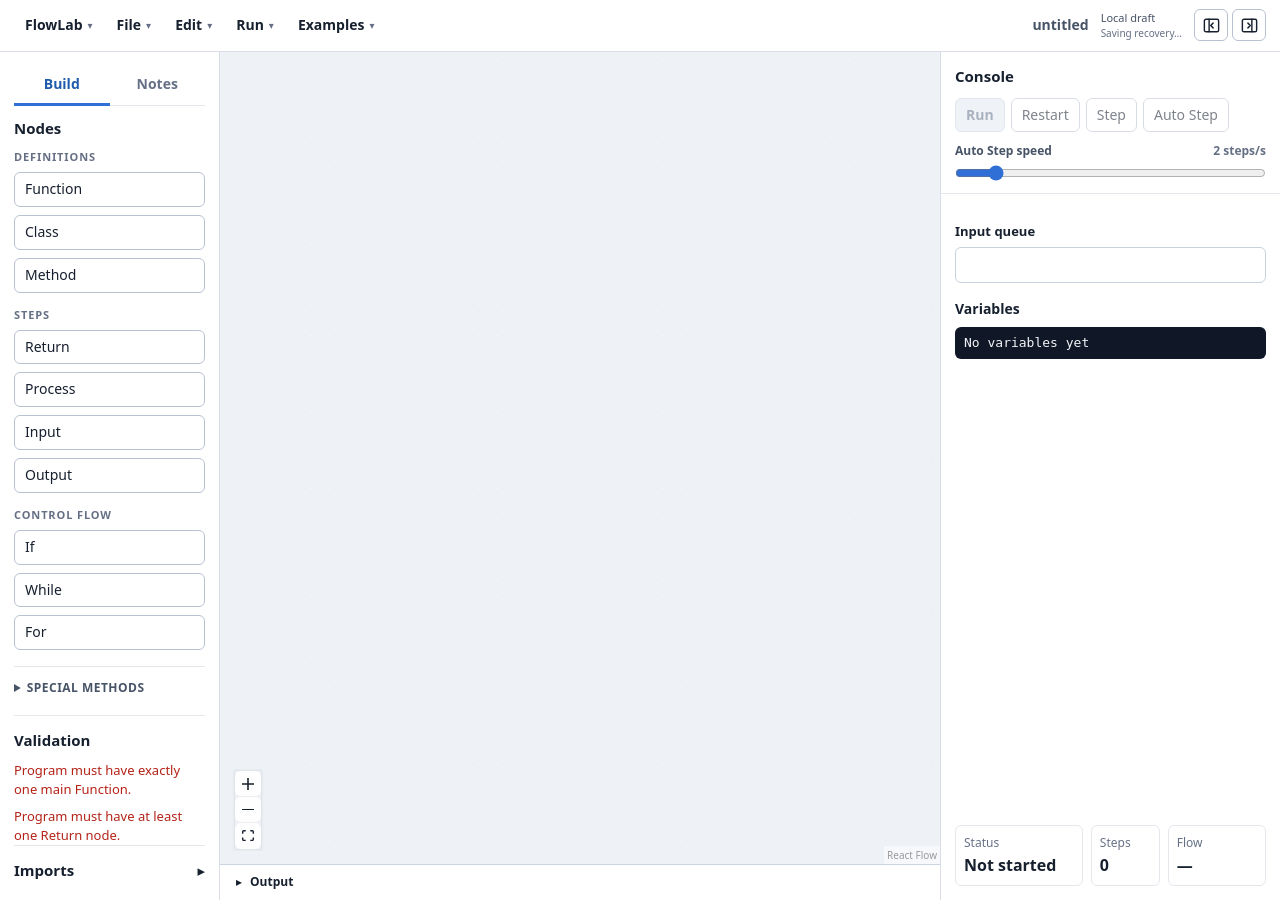
it: App › runs, resets, and steps with Shift+Enter, Ctrl+Shift+R, and Shift+Space
Click the button "Examples ▾". click: (336,25)
box: [287,8,385,43]
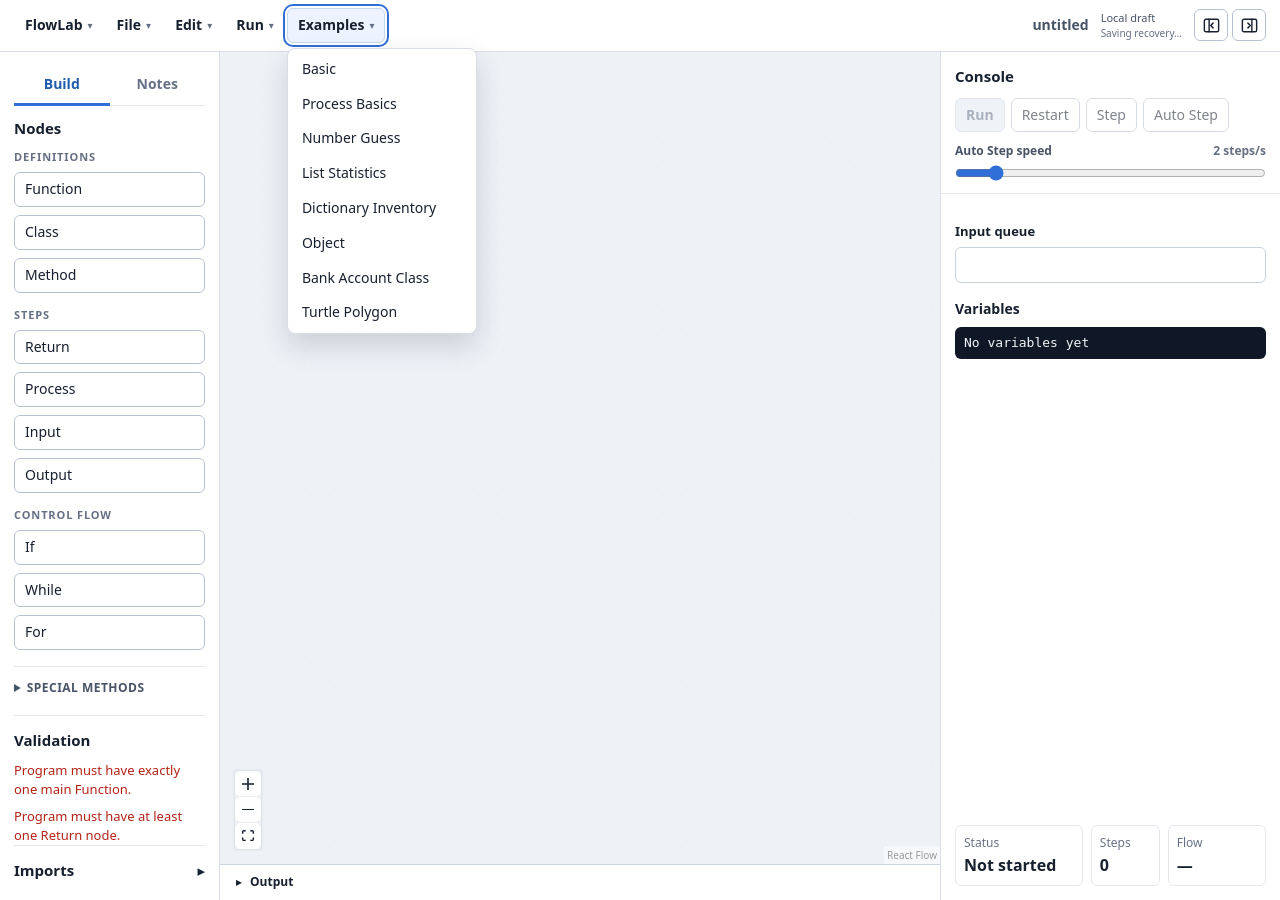
Click the menu item "Basic". click: (382,69)
box: [292,53,472,86]
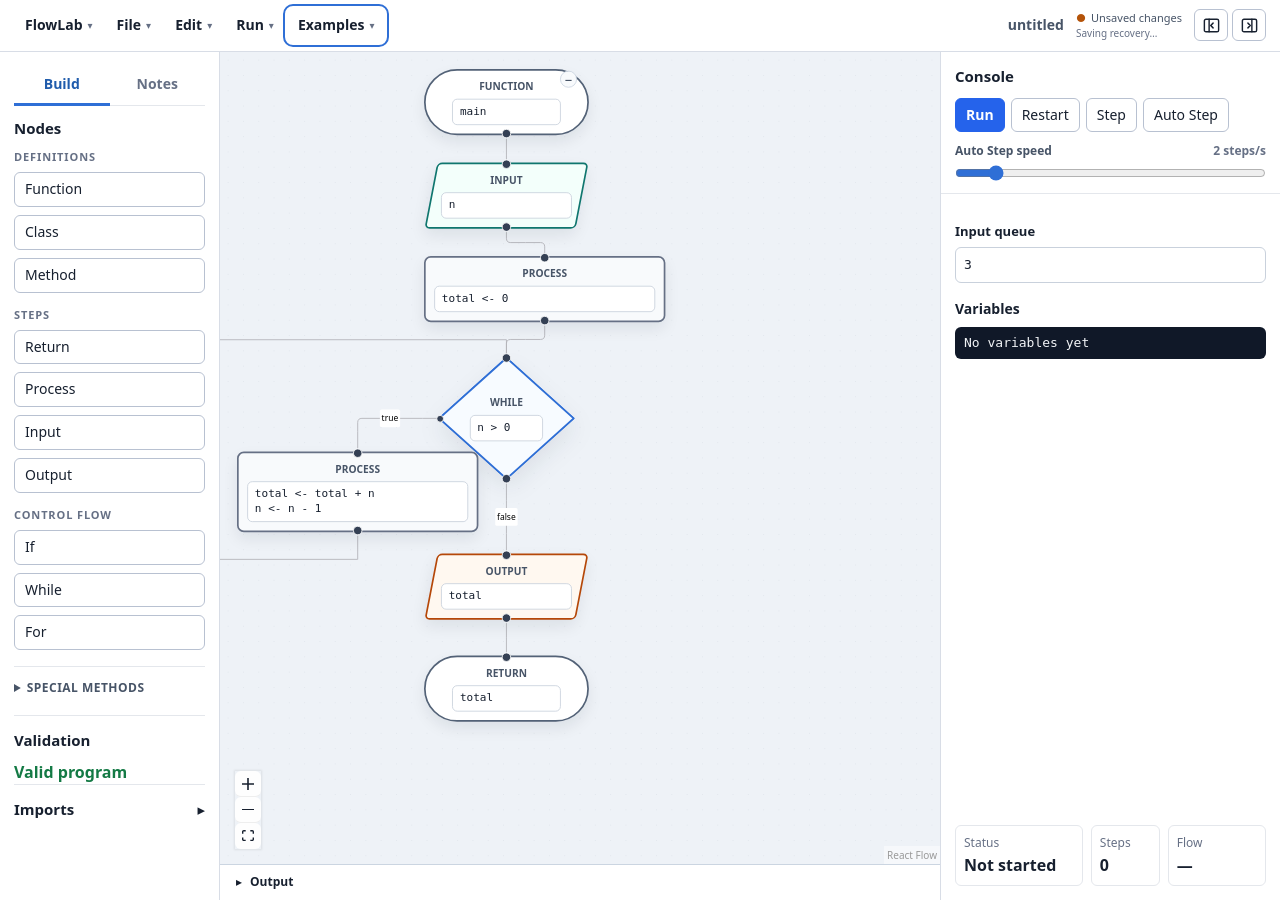
Press Enter
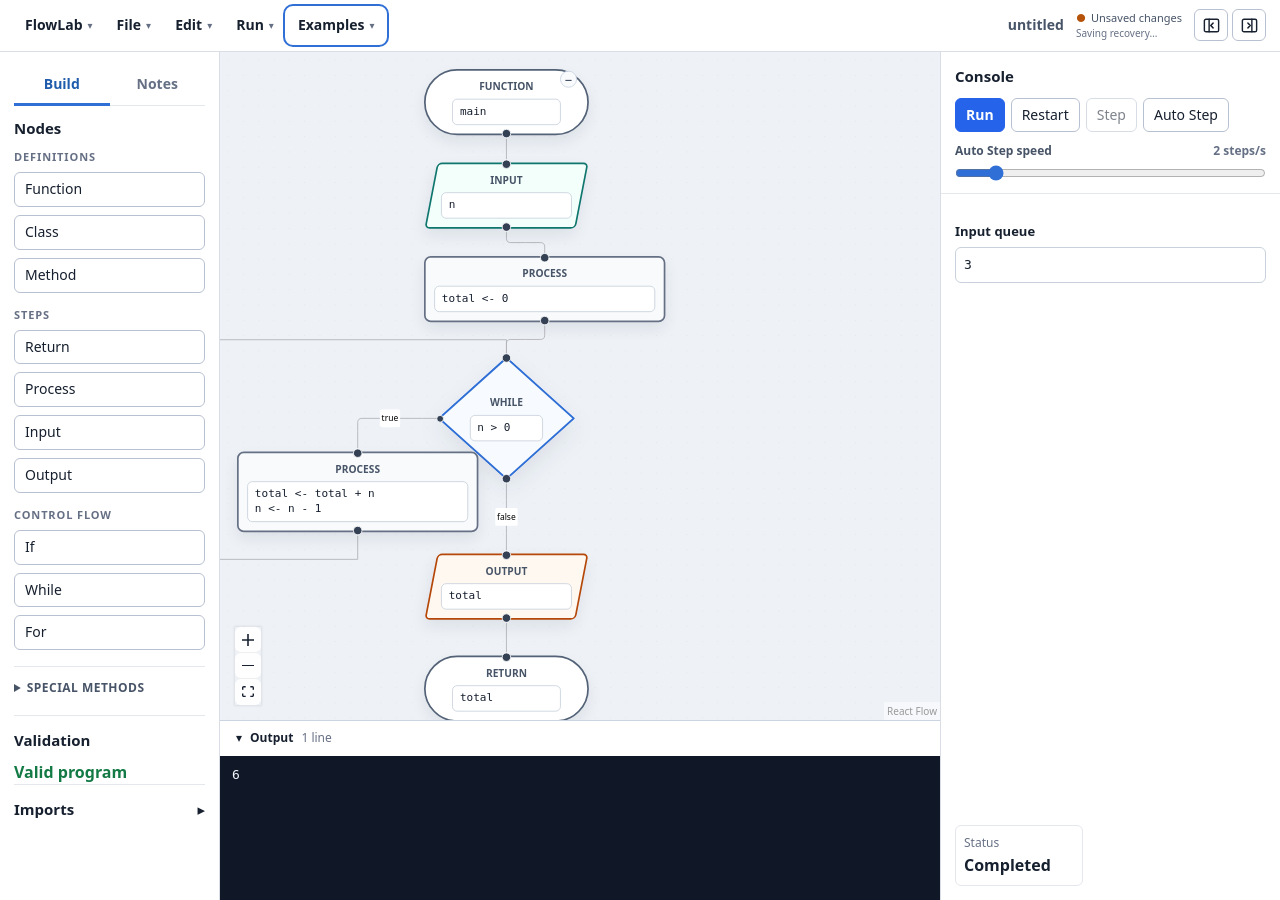
expect the element "▾ Output 1 line 6" is shown: met, box [220,720,940,899]
expect the text "Completed" is shown: met, box [964,854,1051,876]
Press r
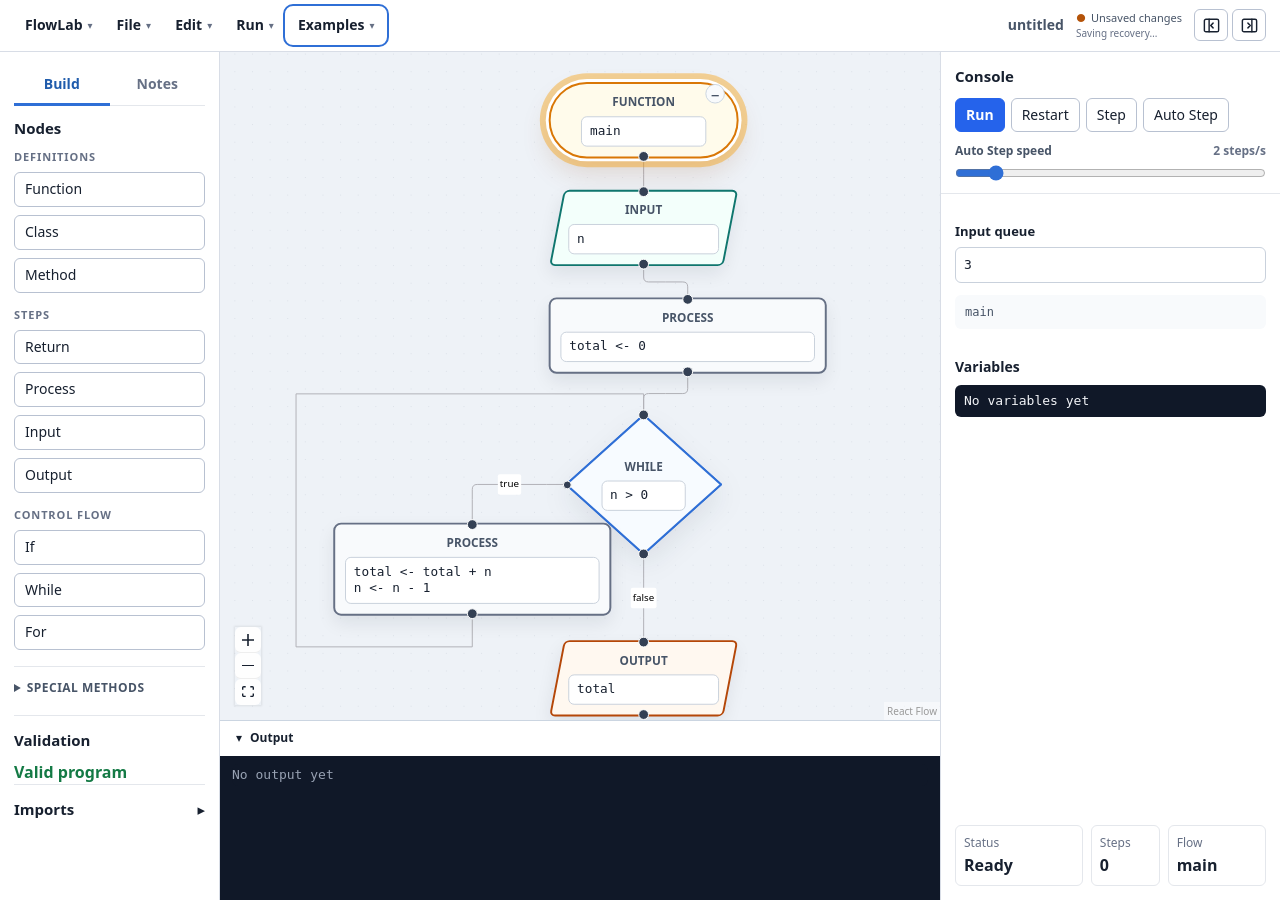
expect the text "Steps 0" is shown: met, box [1091,825,1160,886]
Press Space
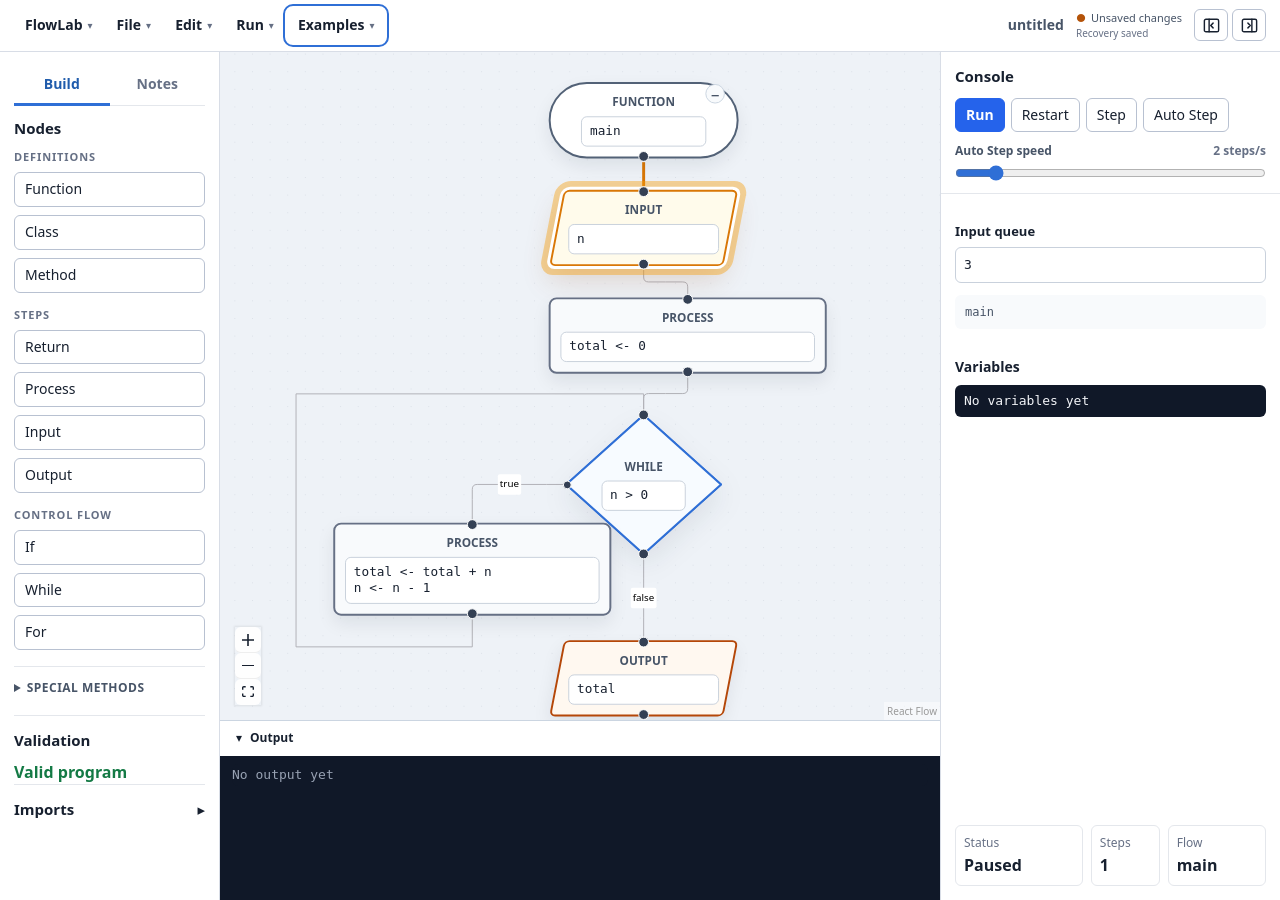
expect the text "Steps 1" is shown: met, box [1091,825,1160,886]
